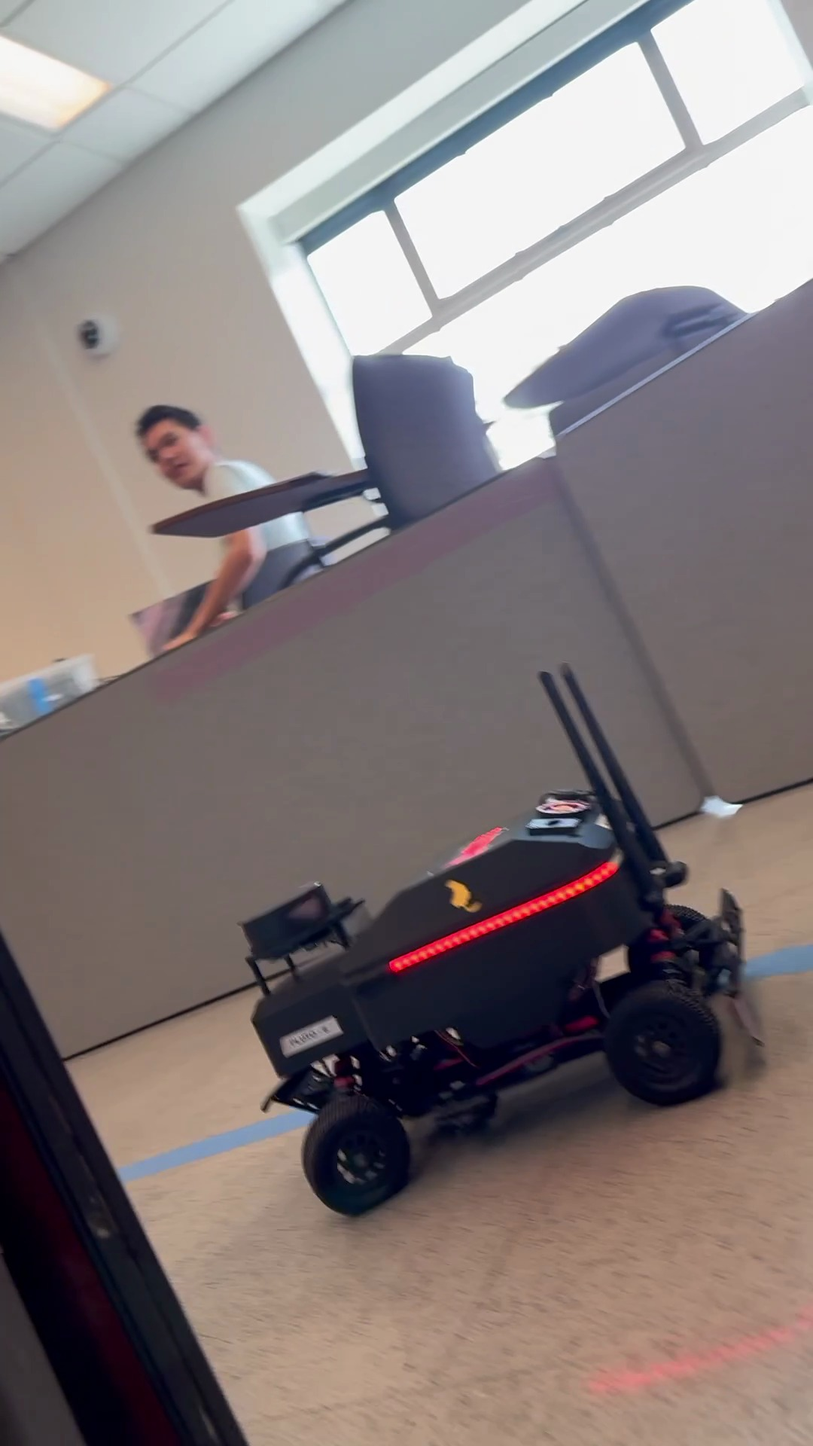racecar: (236, 661, 760, 1215)
